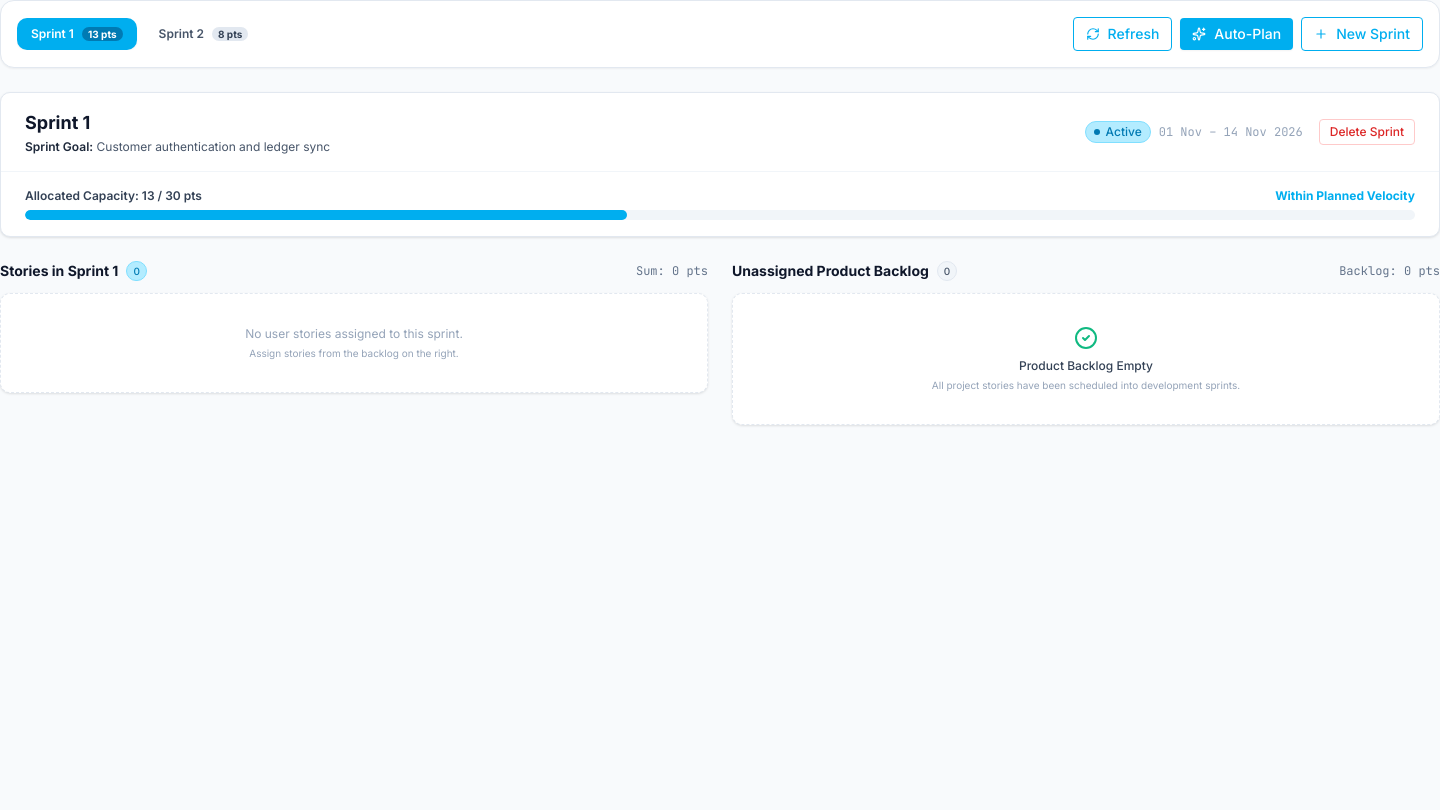
Test: SprintPlanningPage Component (Engineer 3) › shows empty backlog alert and disables submit when project has 0 stories
Step 1. Click the button "Auto-Plan" → (1237, 34), box [1180,18,1293,50]
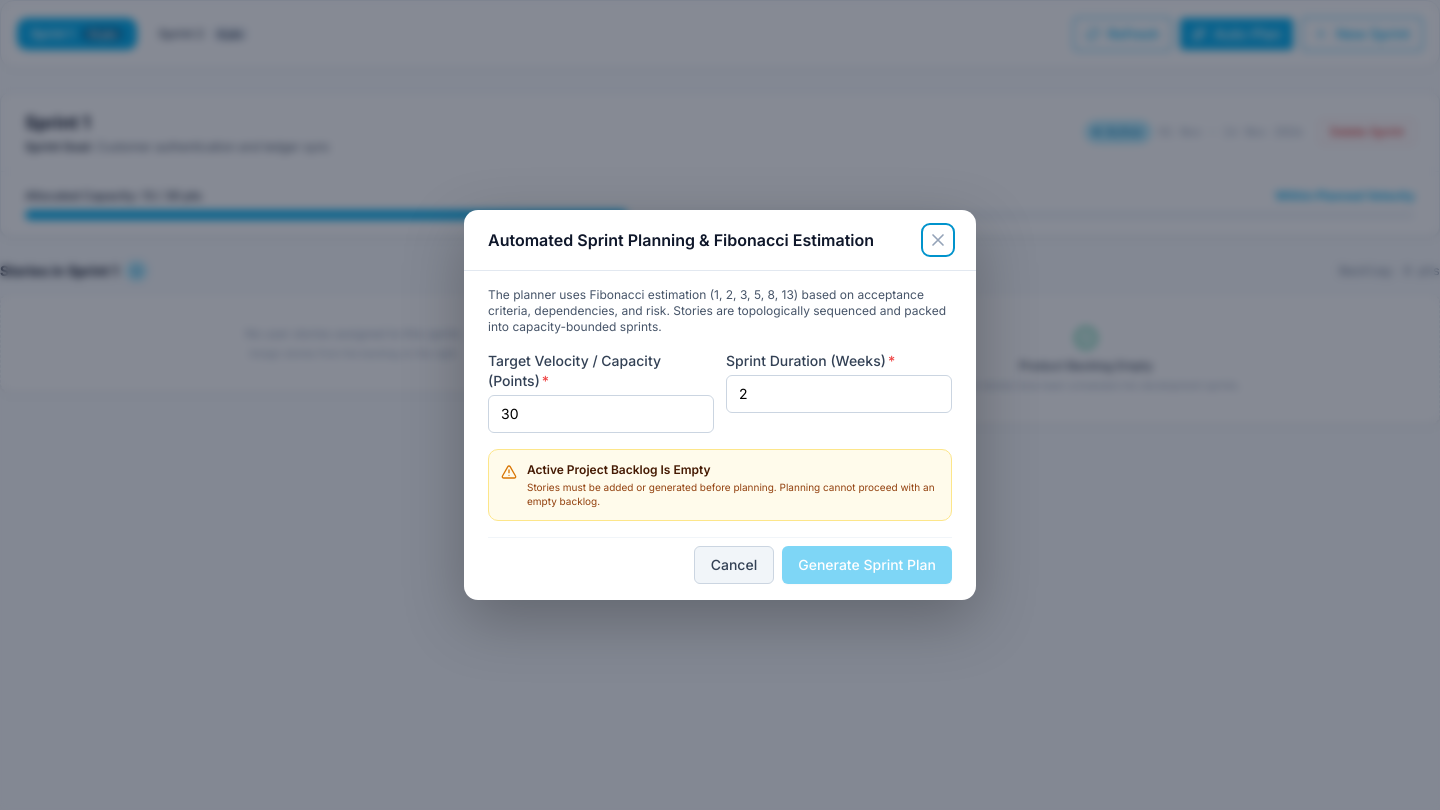
Now the text "Active Project Backlog Is Empty" is shown, box [527,462,710,477]
Now the text "Stories must be added or generated before planning" is shown, box [527,481,934,507]
Now the button "Generate Sprint Plan" is disabled, box [782,546,952,584]
